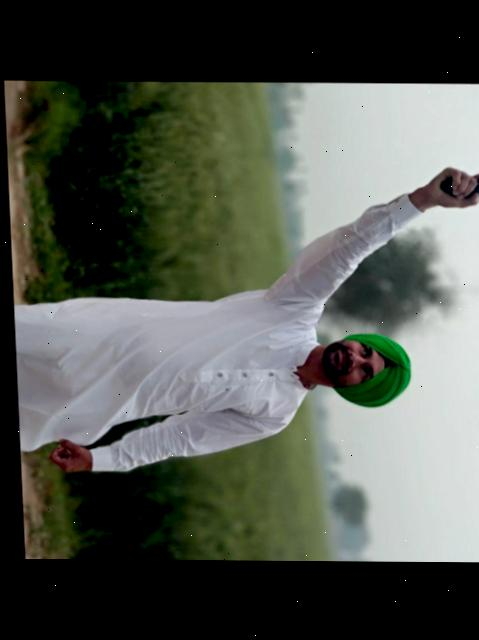pistol: (427, 162, 479, 210)
